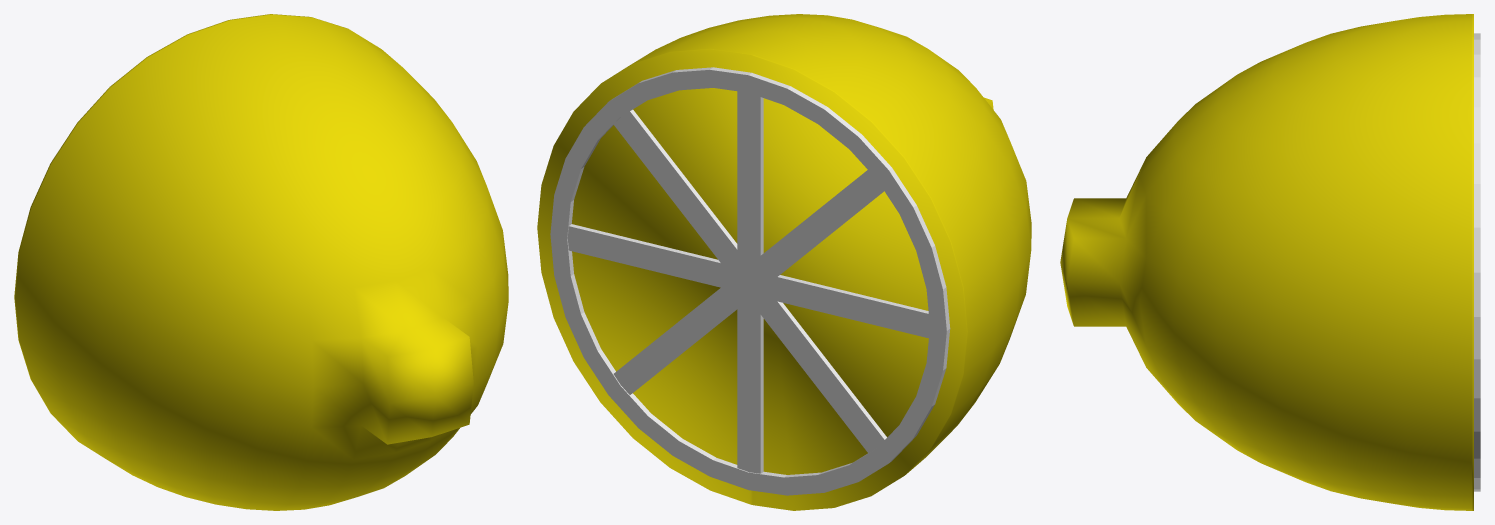
The model's file is lemon.fbx.
3 renders of one model, left to right at view 1: azimuth 30°, elevation 25°; view 2: azimuth 150°, elevation 25°; view 3: azimuth 270°, elevation 25°, orthographic.
Visible parts, largest first — view 1: Sphere; view 2: Sphere, Cylinder, Cube, Cube.001, Cube.003, Cube.002; view 3: Sphere, Cylinder.
Part boxes in pixels (box(x1,y1,x2,y2)): Sphere: box(14, 14, 508, 510); Sphere: box(537, 14, 1031, 510); Cylinder: box(550, 67, 950, 495); Cube: box(567, 224, 929, 338); Cube.001: box(613, 109, 886, 453); Cube.003: box(737, 91, 763, 473); Cube.002: box(613, 170, 883, 394); Sphere: box(1060, 14, 1473, 510); Cylinder: box(1474, 33, 1480, 491).
Size of the model in its own units: 192 by 192 by 162.
